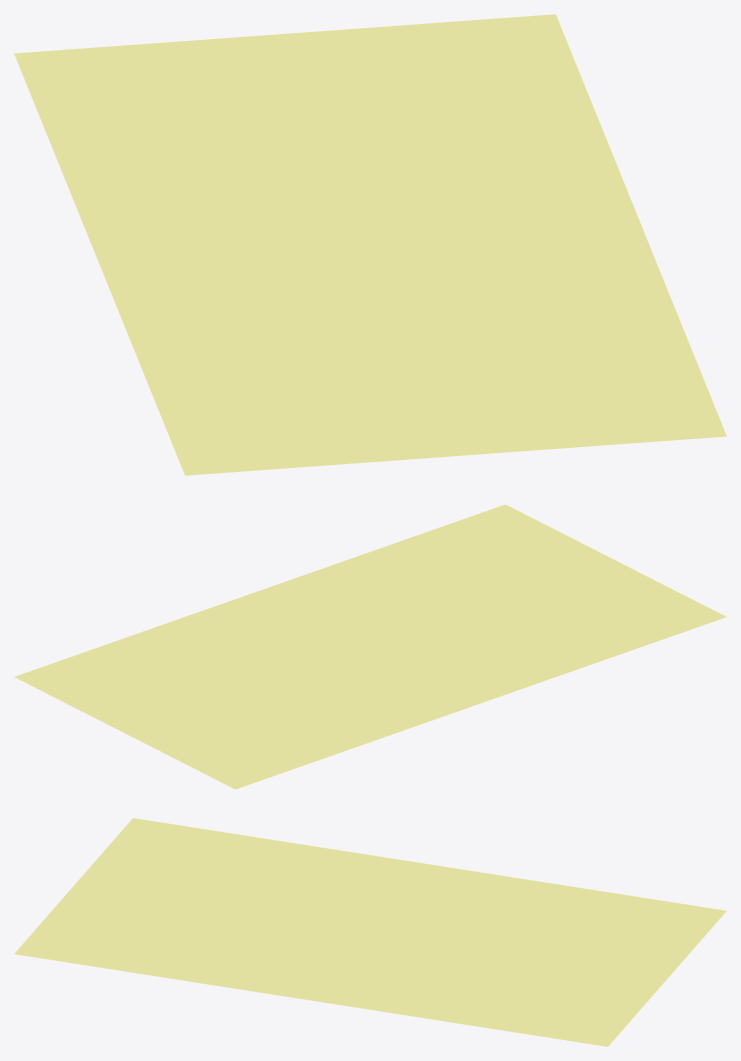
Rendered from Renai_Paper.fbx.
The picture shows the model from 3 angles, top to bottom: view 1: azimuth 30°, elevation 25°; view 2: azimuth 150°, elevation 25°; view 3: azimuth 270°, elevation 25°; orthographic projection. The views are drawn at different scales.
Visible parts, largest first — view 1: Paper; view 2: Paper; view 3: Paper.
Boxes of the visible parts, x1,y1,x2,y2 form: Paper: (14, 14, 726, 475); Paper: (14, 504, 726, 789); Paper: (14, 818, 726, 1046).
Bounding box in the file's own units: 2.22 × 0 × 2.92.
1 material, 1 textured.
